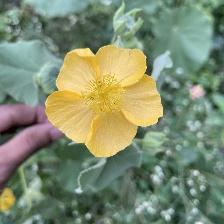indian mallow: (44, 46, 166, 160)
